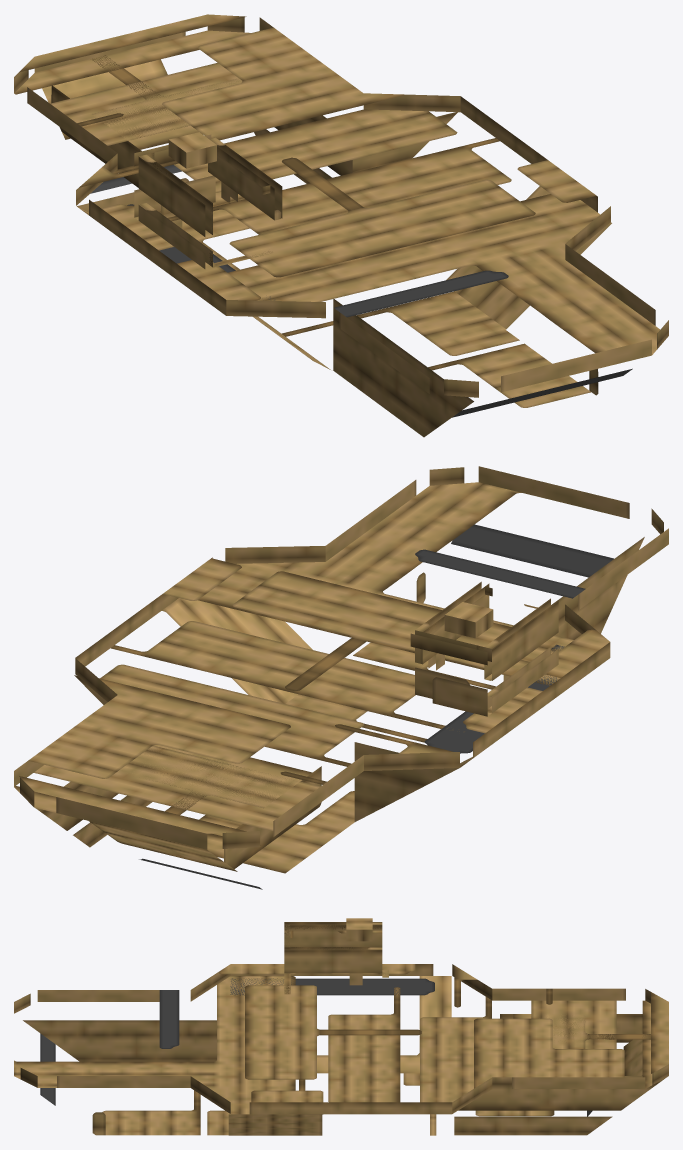
Rendered from carrier.obj.
3 views of the same model, one above another, from view 1: azimuth 30°, elevation 25°; view 2: azimuth 150°, elevation 25°; view 3: azimuth 270°, elevation 25° (orthographic). The views are drawn at different scales.
Visible parts, largest first — view 1: cylinder15151515, cylinder216161616, cube2222, cube811111111, cube13333, cube114444, exhaust1111; view 2: cylinder15151515, cylinder216161616, cube114444, cube2222, cube13333, exhaust1111, cube811111111; view 3: cylinder15151515, cylinder216161616, cube811111111, cube2222, exhaust1111, cube710101010.
Part boxes in pixels (box(x1,y1,x2,y2)): cylinder15151515: box(14, 14, 668, 397); cylinder216161616: box(42, 55, 632, 437); cube2222: box(138, 154, 212, 236); cube811111111: box(208, 137, 282, 220); cube13333: box(138, 203, 212, 268); cube114444: box(134, 134, 215, 220); exhaust1111: box(168, 132, 216, 168); cylinder15151515: box(14, 466, 668, 849); cylinder216161616: box(35, 524, 644, 889); cube114444: box(410, 630, 491, 716); cube2222: box(484, 598, 558, 680); cube13333: box(487, 647, 558, 712); exhaust1111: box(444, 602, 493, 638); cube811111111: box(415, 581, 489, 664); cylinder15151515: box(14, 964, 668, 1114); cylinder216161616: box(23, 976, 666, 1135); cube811111111: box(284, 947, 382, 973); cube2222: box(284, 922, 382, 946); exhaust1111: box(346, 918, 372, 941); cube710101010: box(290, 924, 382, 949).
Size of the model in its own units: 25 by 11 by 50.
